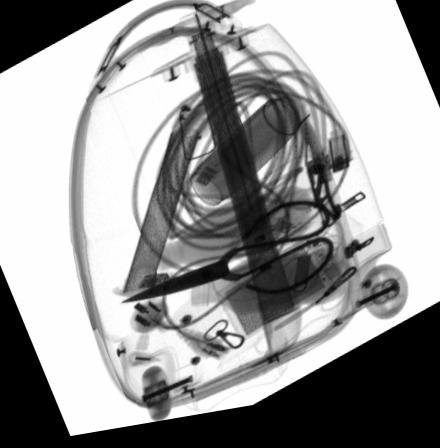Knife: (303, 125, 339, 242)
Powerbank: (214, 243, 339, 351)
Scissors: (120, 210, 334, 310)
